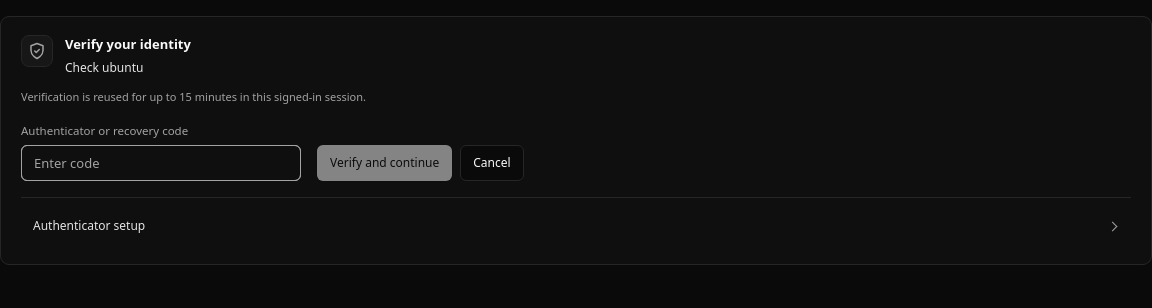
Test: a rejected code never continues the blocked action
Type "bad" into the field labelled "Authenticator or recovery code".
click(161, 163); type("bad")  # box [21,145,301,181]
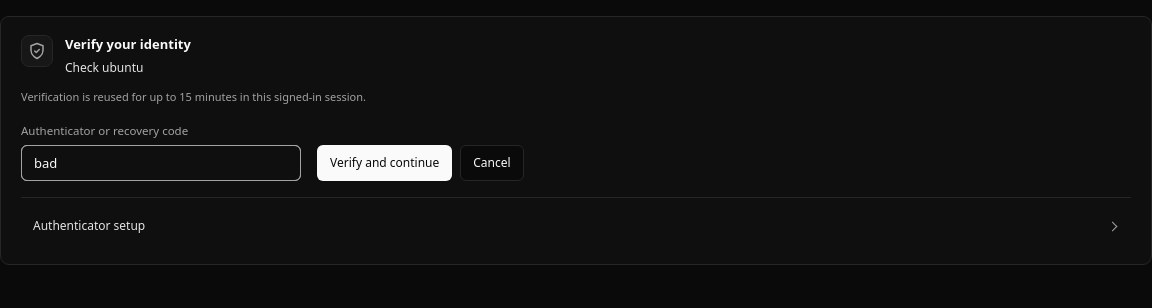
Click the button "Verify and continue".
click(385, 163)  # box [317,145,452,181]
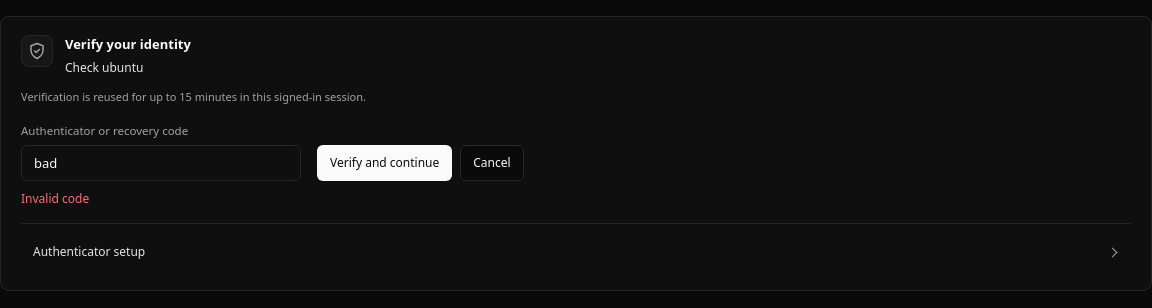
Now the text "Invalid code" is shown, box [21,190,89,207]
